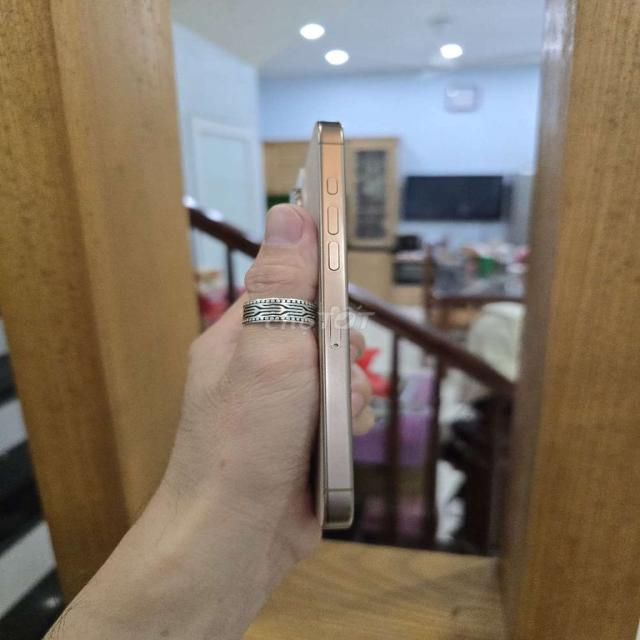gen_16: (278, 115, 397, 548)
